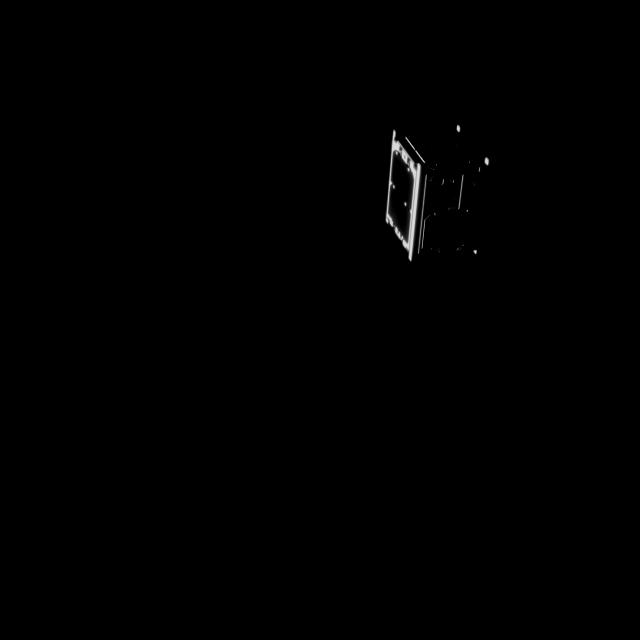satellite: (375, 100, 500, 258)
